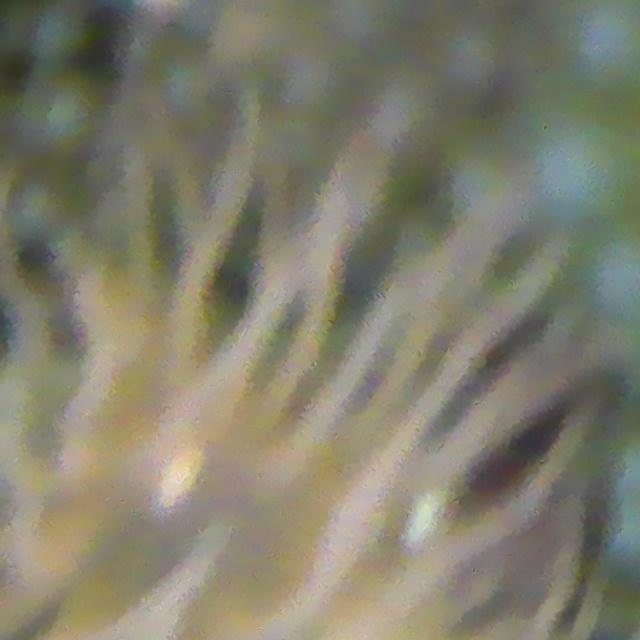SeaGrape: (527, 122, 606, 218), (16, 73, 103, 158), (564, 0, 640, 89), (582, 224, 640, 317), (29, 0, 90, 65)
